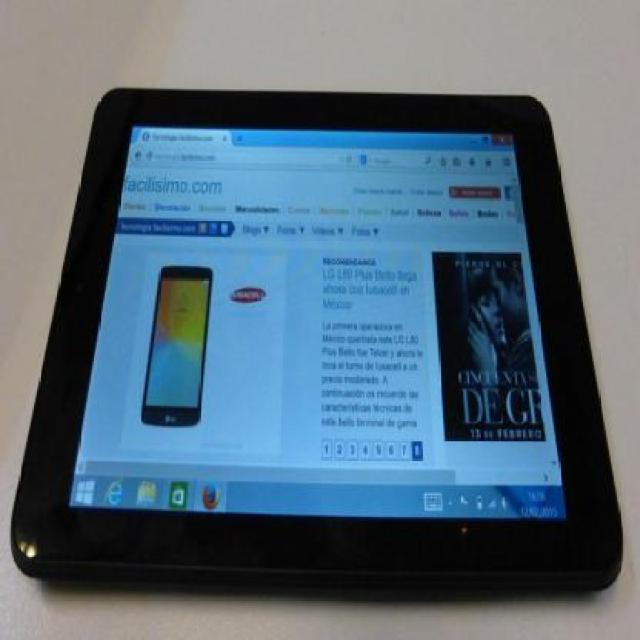tablet: (36, 53, 631, 621)
